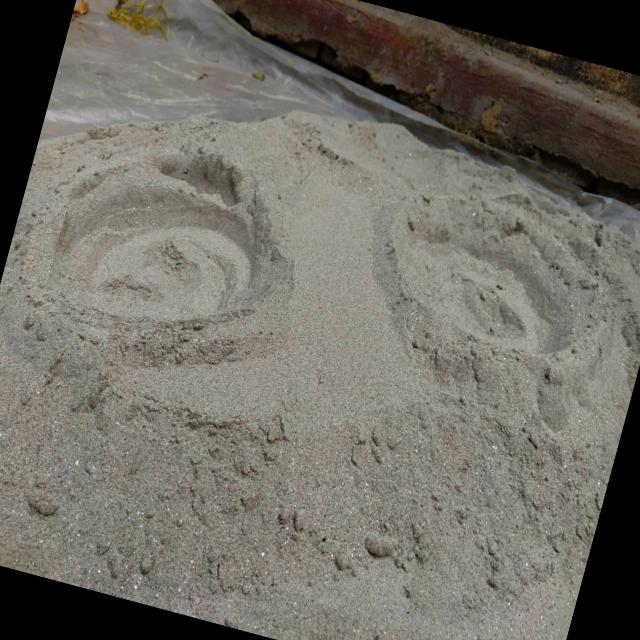C20: (50, 147, 287, 327), (387, 198, 592, 352)
